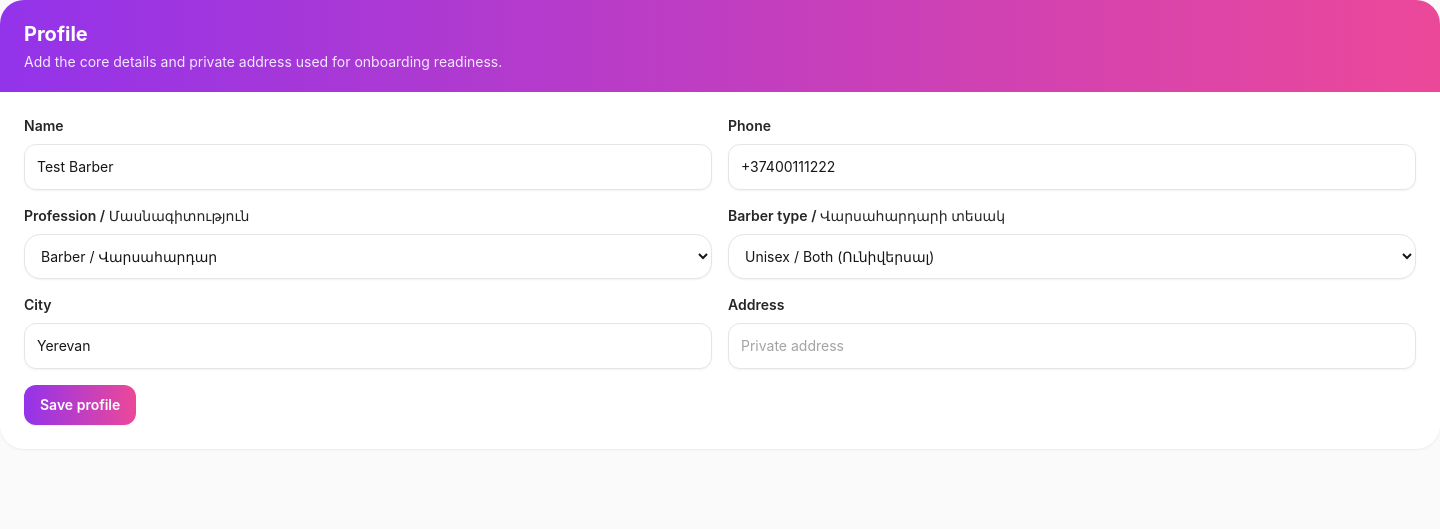
Test case: ProfessionalBasicsStep onboarding validation › allows a salon-only barber to save a blank address
Click the button "Save profile" at (80, 405), box x1=24 y1=385 x2=136 y2=425
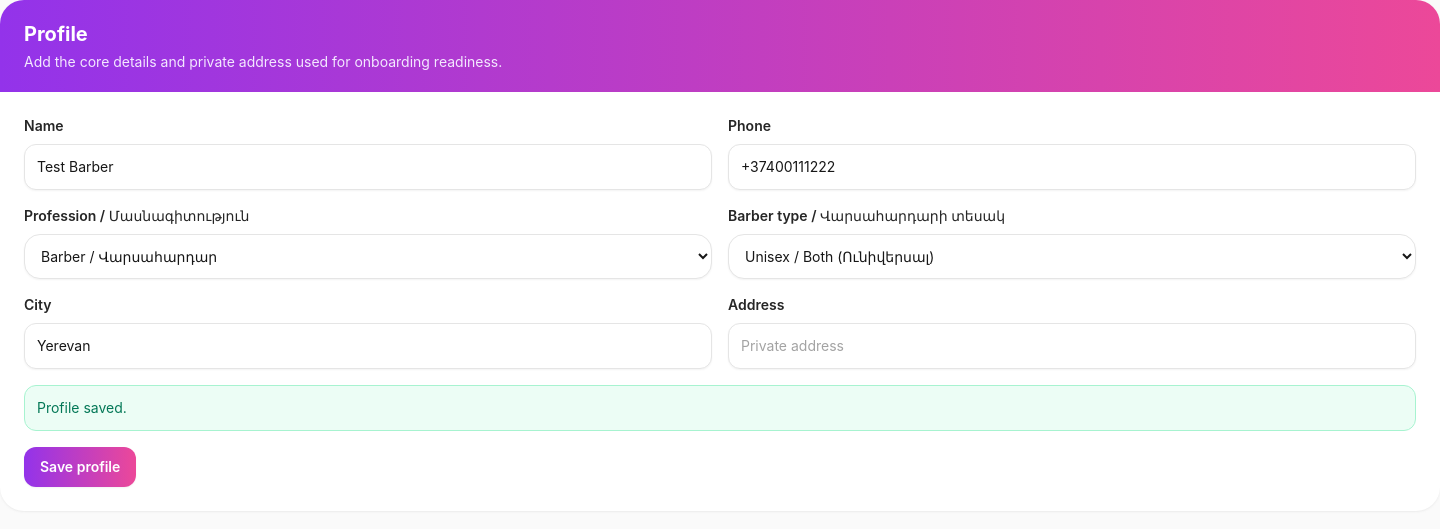
Check: the text "Profile saved." is shown, box x1=24 y1=385 x2=1416 y2=431
